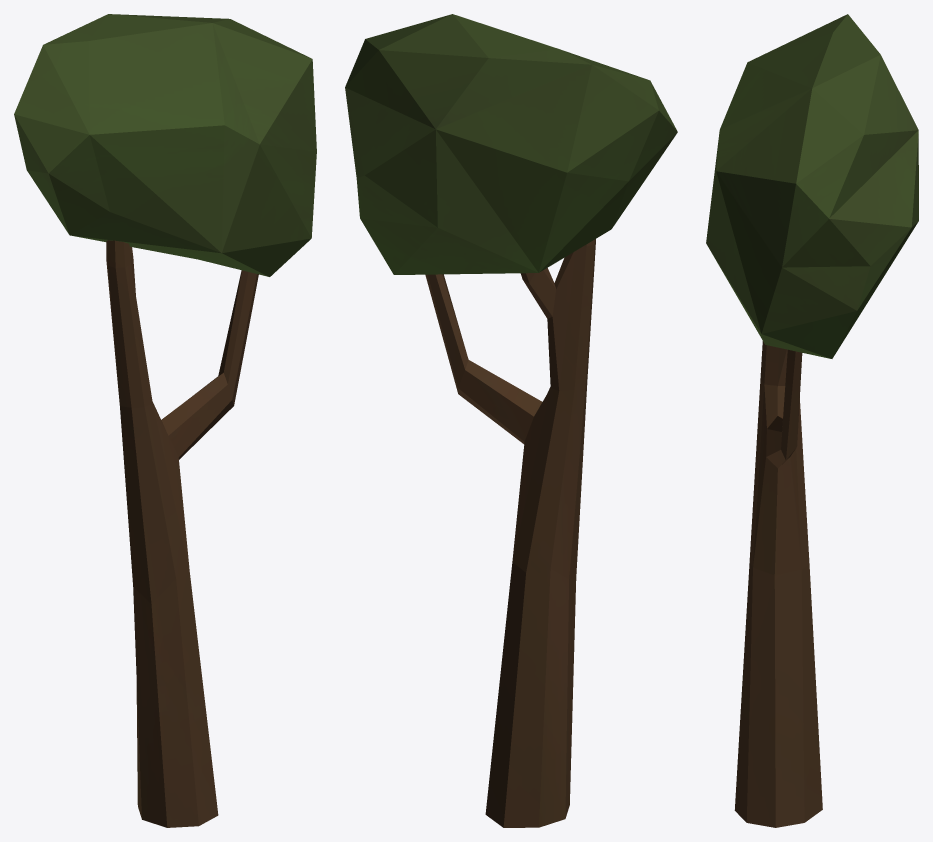
The model's file is Tree5Stage2.fbx.
The picture shows the model from 3 angles, left to right: view 1: azimuth 30°, elevation 25°; view 2: azimuth 150°, elevation 25°; view 3: azimuth 270°, elevation 25°; orthographic projection. The views are drawn at different scales.
Visible parts, largest first — view 1: Tree5Stage2; view 2: Tree5Stage2; view 3: Tree5Stage2.
Boxes of the visible parts, bbox=[...] form: Tree5Stage2: bbox=[14, 14, 316, 827]; Tree5Stage2: bbox=[345, 14, 677, 827]; Tree5Stage2: bbox=[706, 14, 918, 827].
Size of the model in its own units: 56.29 by 140 by 36.16.
